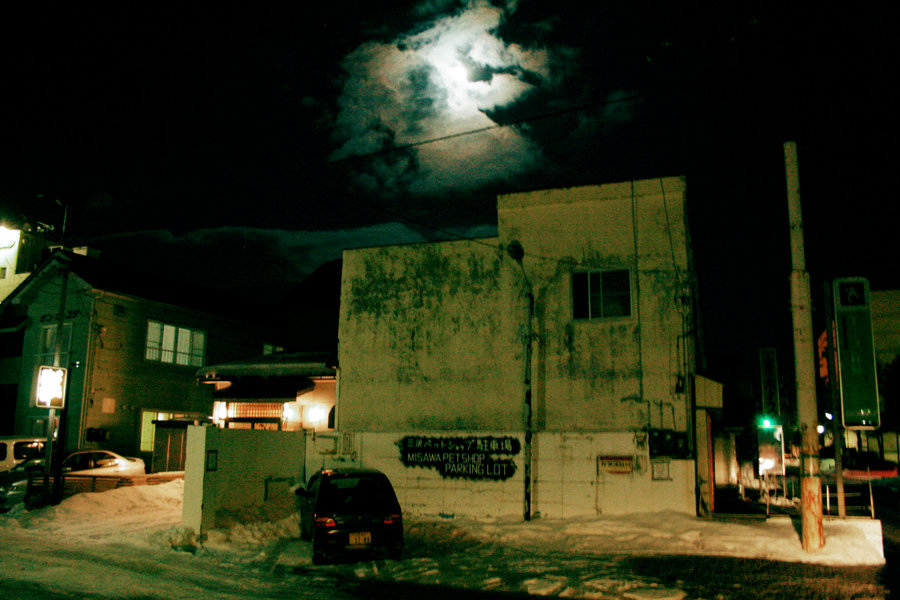car: (288, 462, 410, 566)
